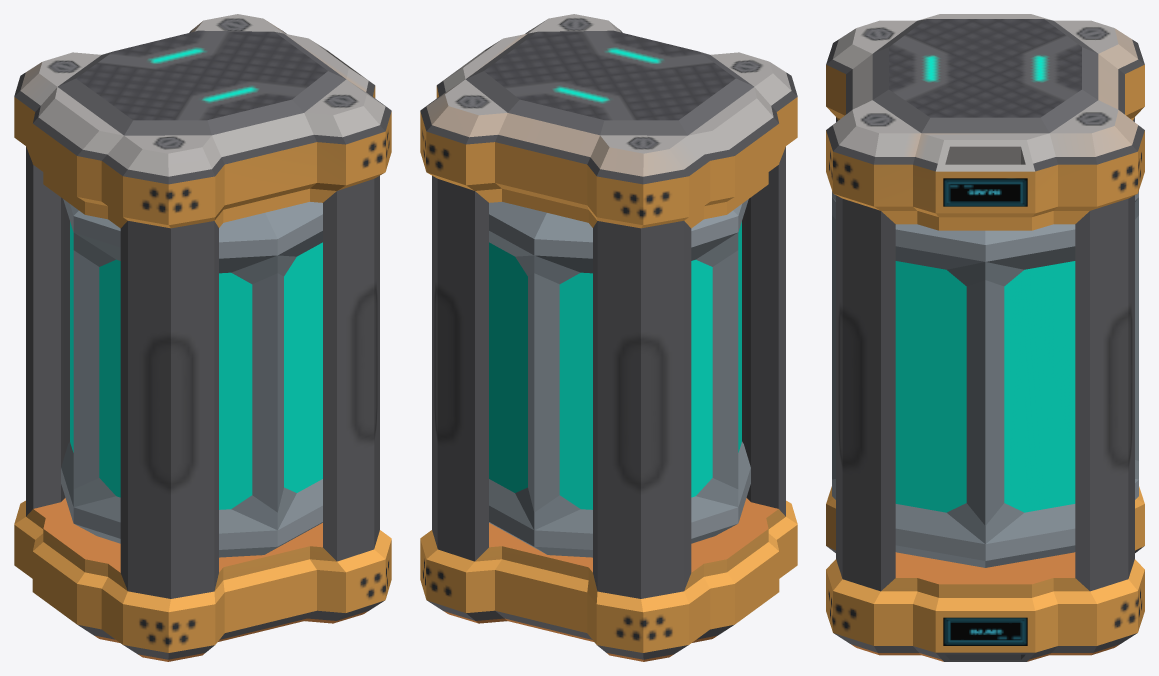
The model's file is SM_Prop_Crate_10.fbx.
3 renders of one model, left to right at view 1: azimuth 30°, elevation 25°; view 2: azimuth 150°, elevation 25°; view 3: azimuth 270°, elevation 25°, orthographic. The views are drawn at different scales.
Visible parts, largest first — view 1: SM_Prop_Crate_10; view 2: SM_Prop_Crate_10; view 3: SM_Prop_Crate_10.
Part boxes in pixels (x1,y1,x2,y2): SM_Prop_Crate_10: (14, 14, 391, 661); SM_Prop_Crate_10: (420, 14, 797, 661); SM_Prop_Crate_10: (826, 14, 1144, 661).
Bounding box in the file's own units: 66.14 × 112 × 60.08.
